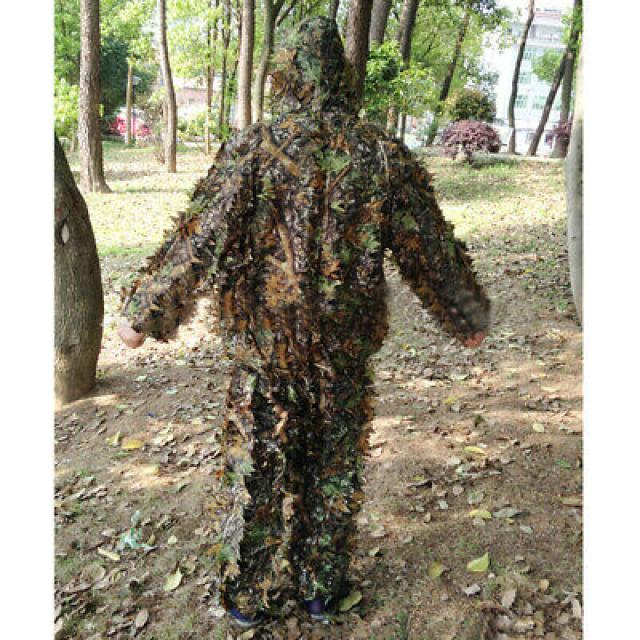Human: (119, 18, 487, 614)
